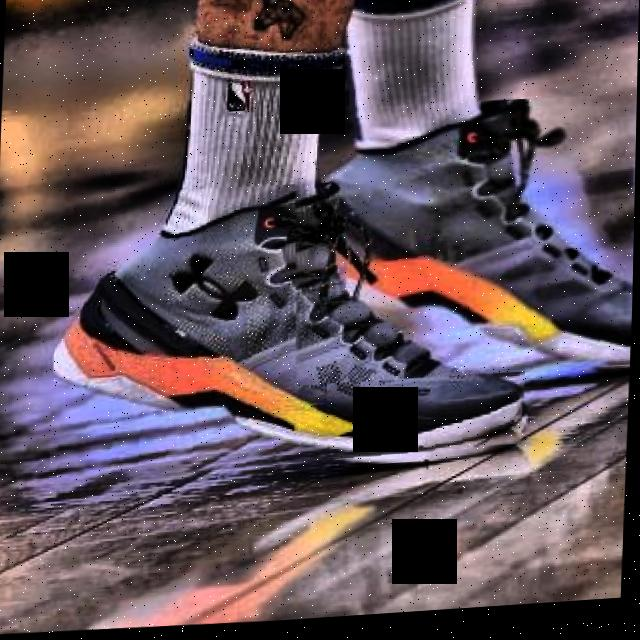shoe: (50, 171, 539, 492), (285, 95, 638, 396)
